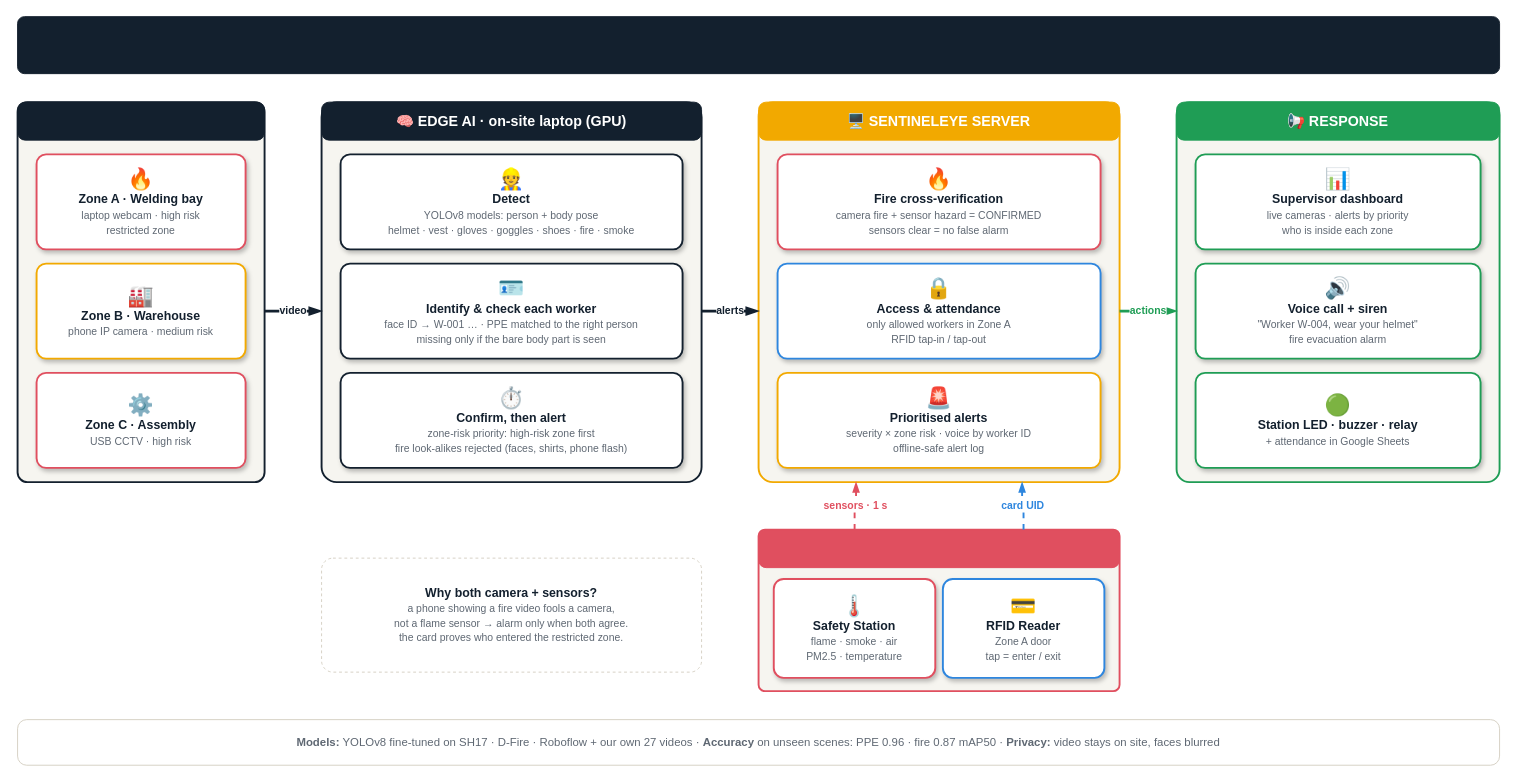
Some shapes in this 1516 by 782 pixel diagram are drawn without their labels. Each missing label, with the centre of its shape:
SentinelEye · AI safety-gear compliance with sensor-verified fire alarms: pixel 758 45
📷 CAMERAS: pixel 141 120
🔌 IoT HARDWARE · ESP32 · Wi-Fi: pixel 939 548
